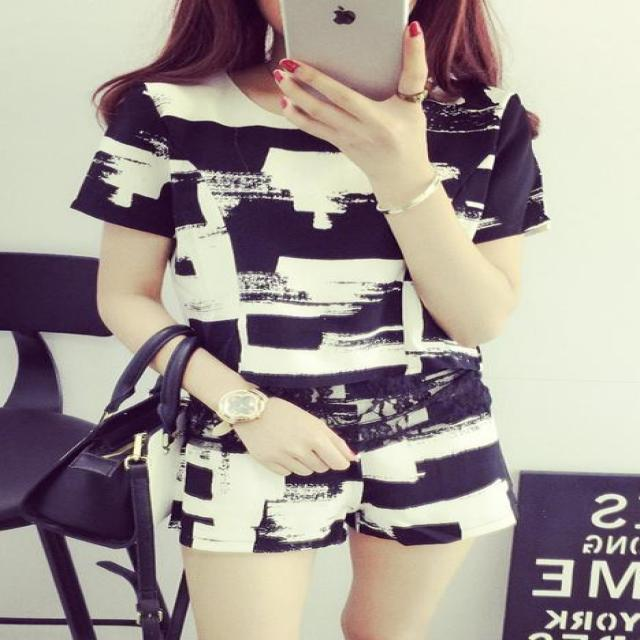short-sleeve-dress: (92, 48, 545, 570)
